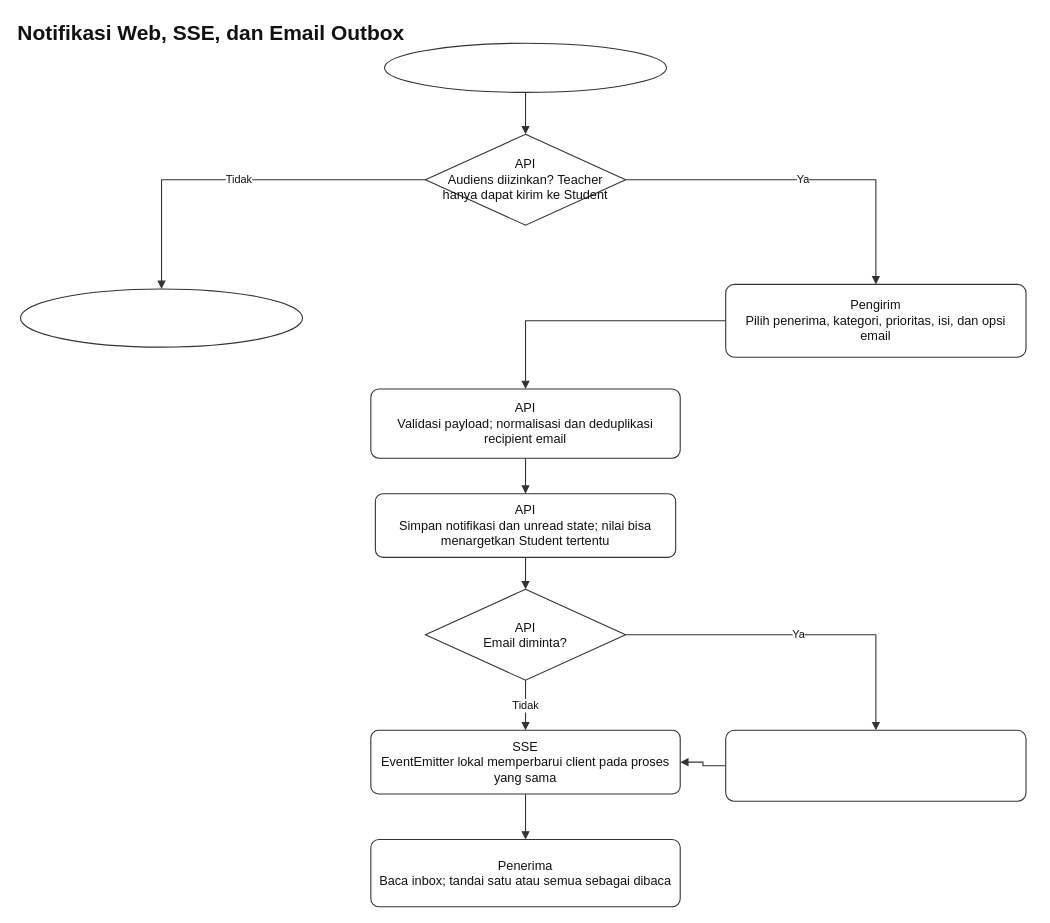
This 1050x923 diagram has some shape labels left out. Here are the shapes that lost their labels. From the top down, the box of each, then its label:
(383, 42, 667, 92): Admin / Teacher Buat notifikasi atau reminder
(19, 288, 303, 347): API Tolak audiens yang tidak diizinkan
(725, 729, 1026, 801): Email worker Outbox mengirim sesuai SMTP dan retry terbatas
